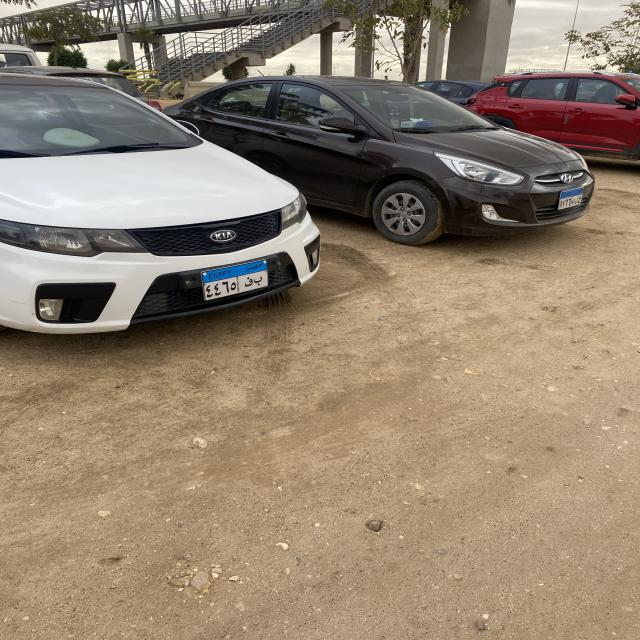License Plate: (201, 259, 269, 302), (557, 187, 584, 211)
